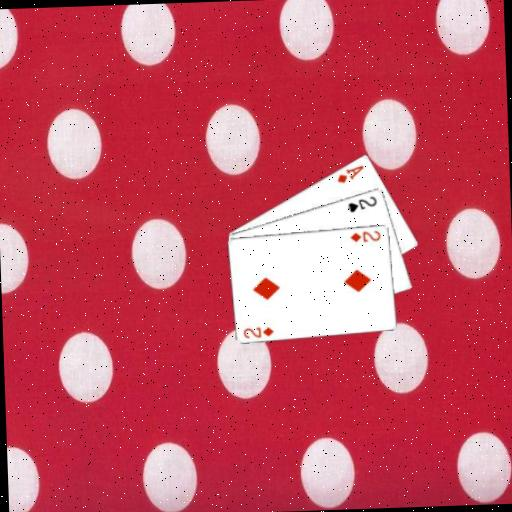2D: (347, 227, 382, 243), (240, 323, 275, 339)
2S: (343, 192, 378, 213)
AD: (333, 161, 365, 184)
